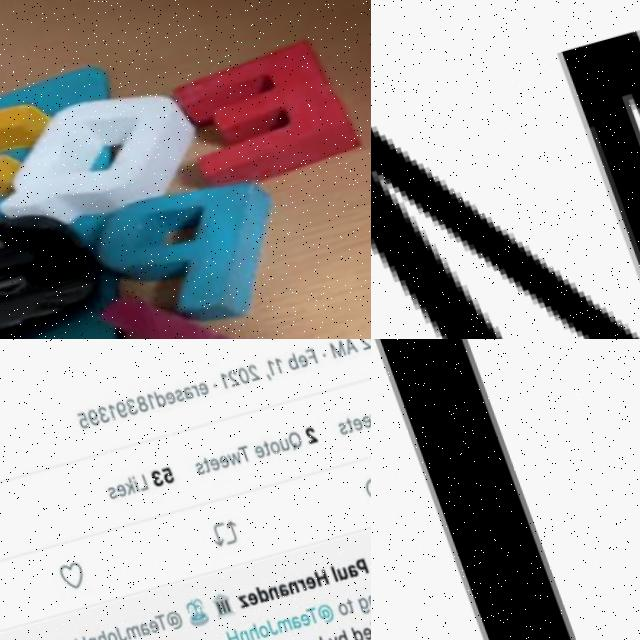1: (151, 466, 166, 486), (67, 411, 82, 430)
4: (126, 395, 142, 414)
5: (106, 400, 122, 420), (78, 408, 94, 427)
A: (336, 339, 351, 356), (334, 564, 348, 580), (265, 584, 279, 600), (125, 621, 139, 637), (175, 386, 187, 402), (277, 616, 289, 630)
B: (279, 354, 292, 372), (321, 629, 336, 640)
D: (145, 389, 161, 410), (242, 585, 258, 604), (337, 627, 351, 640)
E: (137, 24, 371, 210), (233, 593, 248, 607), (134, 619, 148, 634), (190, 382, 204, 396), (244, 446, 258, 460), (199, 459, 213, 473), (292, 577, 306, 591), (106, 482, 118, 498), (343, 419, 356, 433), (286, 614, 299, 628), (347, 627, 361, 640), (290, 355, 302, 370), (353, 416, 365, 431), (157, 392, 169, 406), (209, 455, 221, 469)
F: (358, 621, 371, 639), (298, 349, 311, 366), (365, 619, 371, 637)
G: (344, 599, 360, 617)
H: (301, 569, 318, 588), (233, 624, 246, 640), (210, 629, 228, 640), (82, 630, 95, 640), (59, 635, 76, 640), (367, 551, 371, 569), (299, 636, 313, 640)
I: (371, 339, 629, 640), (362, 589, 371, 606), (122, 475, 130, 493)
J: (253, 619, 266, 638), (100, 624, 114, 640)
K: (113, 477, 127, 494)
L: (126, 474, 140, 492), (318, 566, 327, 584), (358, 625, 365, 639)
M: (371, 0, 640, 339), (321, 341, 341, 361), (263, 619, 280, 634), (111, 625, 129, 639)
N: (254, 587, 269, 601), (354, 595, 368, 609), (275, 581, 288, 596), (358, 558, 371, 572), (225, 629, 237, 640), (73, 636, 86, 640)
O: (323, 603, 338, 619), (243, 625, 257, 639), (260, 442, 273, 454), (91, 631, 106, 640)
P: (73, 159, 316, 339), (342, 558, 360, 577)
Q: (0, 73, 213, 239), (278, 431, 296, 452)
R: (284, 579, 296, 593), (184, 384, 193, 397)
S: (184, 460, 199, 477), (166, 388, 178, 404), (329, 422, 341, 437), (97, 485, 109, 500)
T: (141, 613, 157, 633), (228, 446, 244, 464), (292, 607, 307, 626), (336, 418, 348, 435), (253, 440, 264, 457), (192, 457, 203, 474), (333, 599, 343, 614)
U: (0, 280, 287, 339), (269, 439, 283, 453), (323, 568, 337, 582)
W: (218, 453, 235, 468), (360, 413, 371, 426)
Y: (366, 590, 371, 610)
Z: (224, 594, 239, 610)
